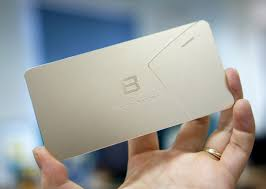bphone: (22, 18, 238, 163)
